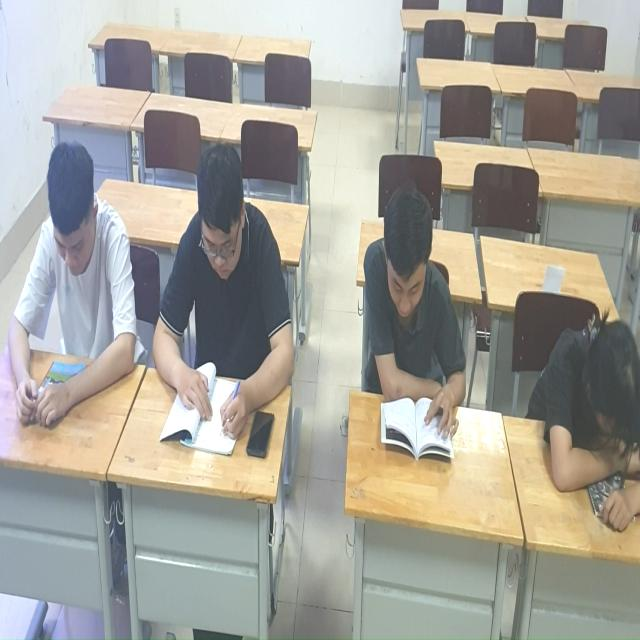read: (151, 140, 297, 467), (1, 120, 142, 434), (359, 182, 472, 470)
sleep: (528, 314, 640, 543)
